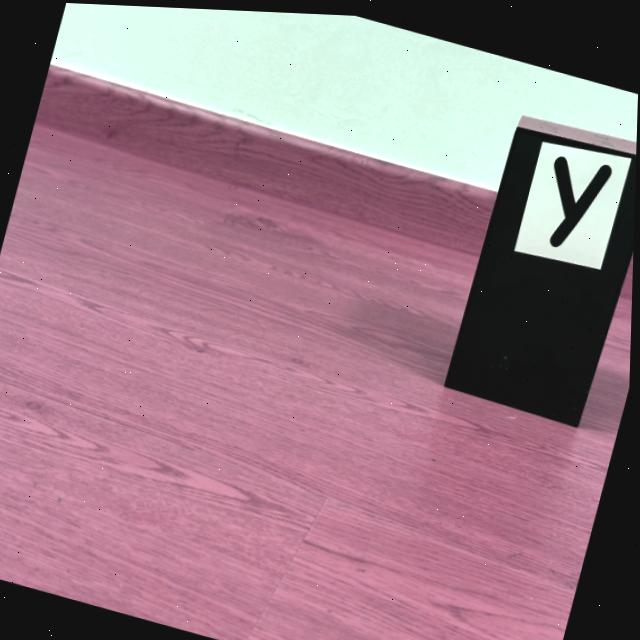Y: (551, 150, 612, 242)
